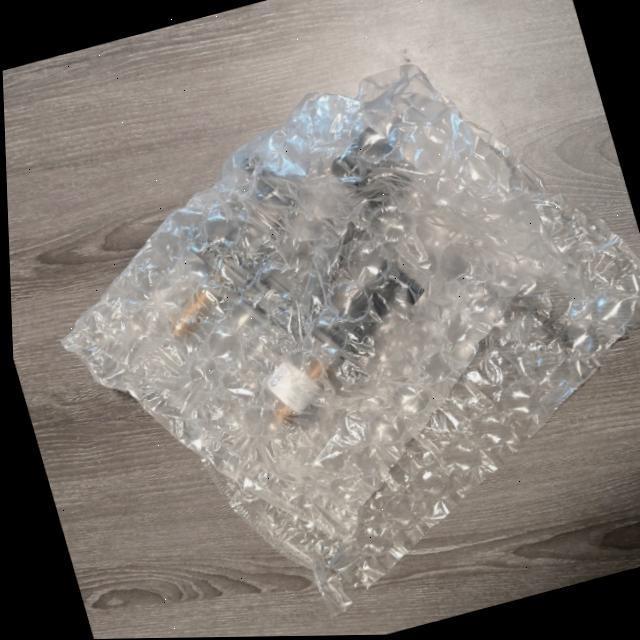9c: (63, 65, 640, 613)
